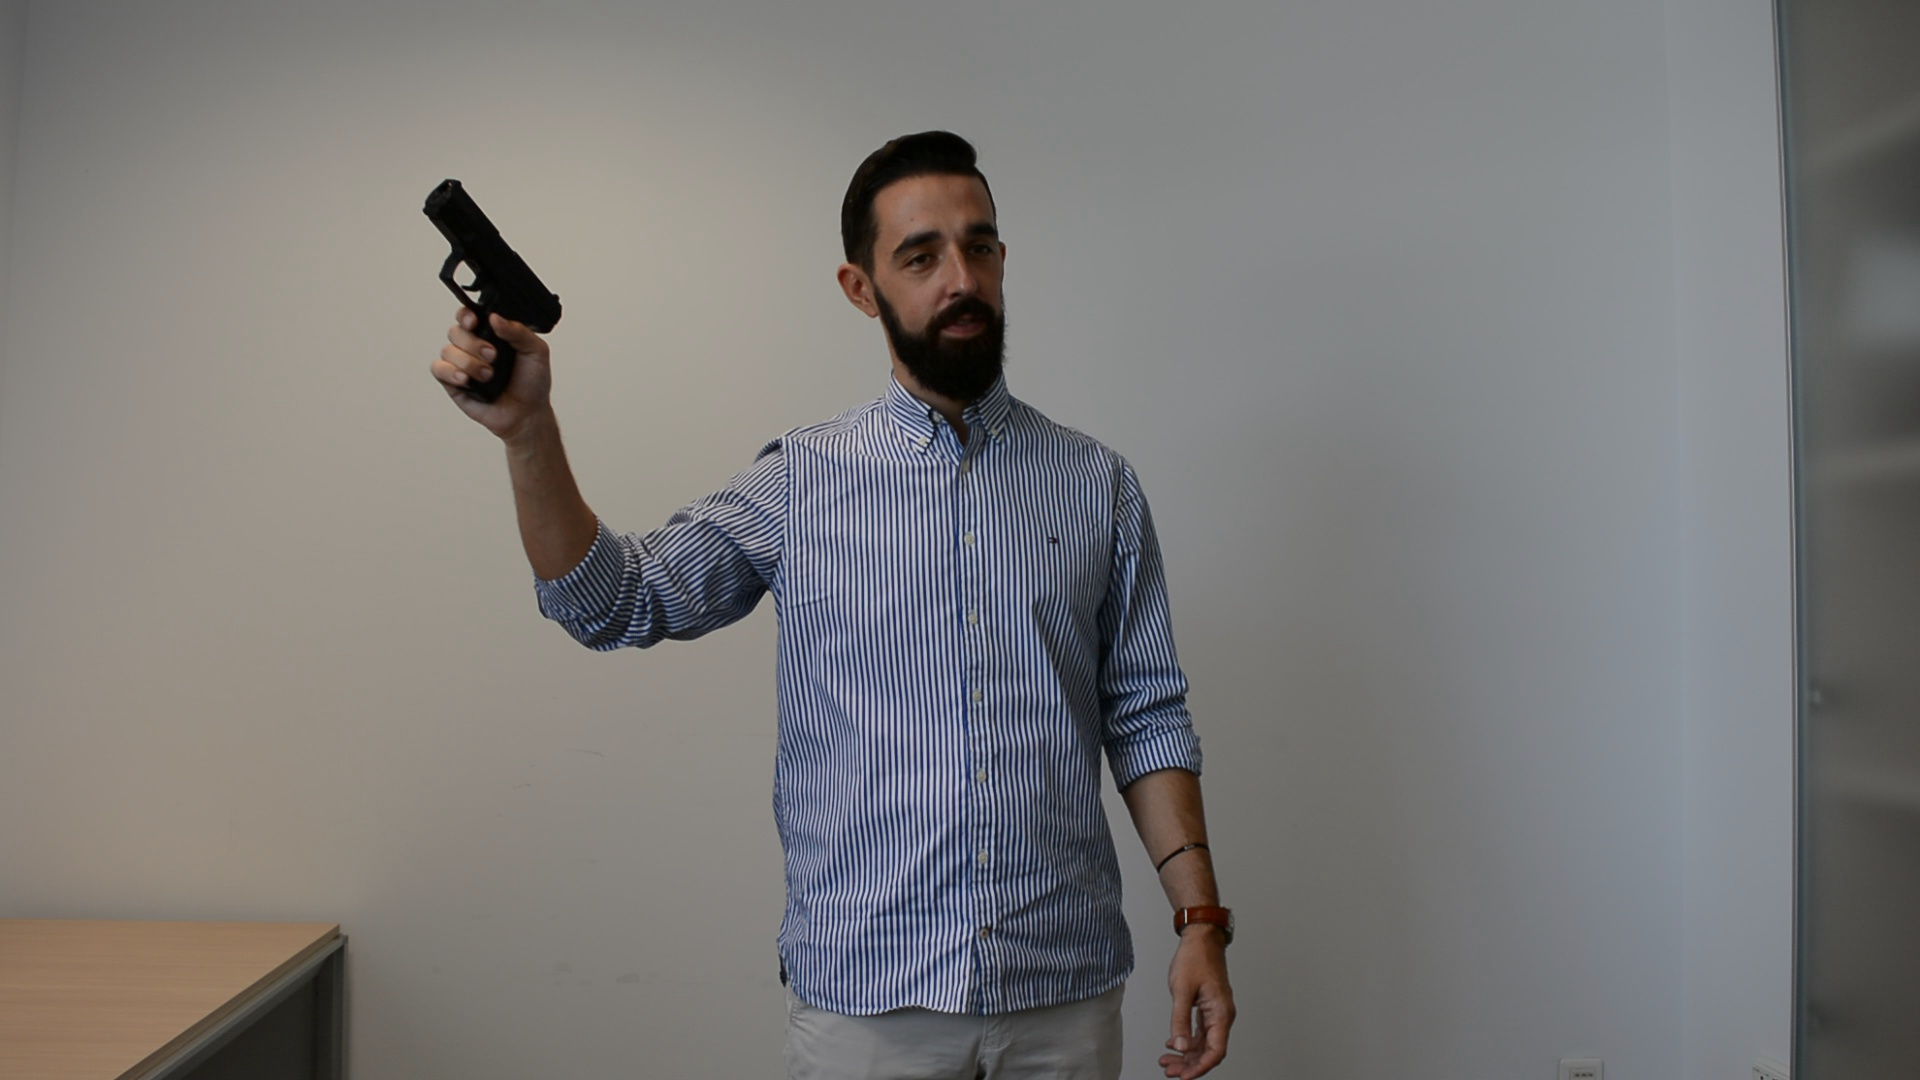pistol: (419, 171, 566, 406)
